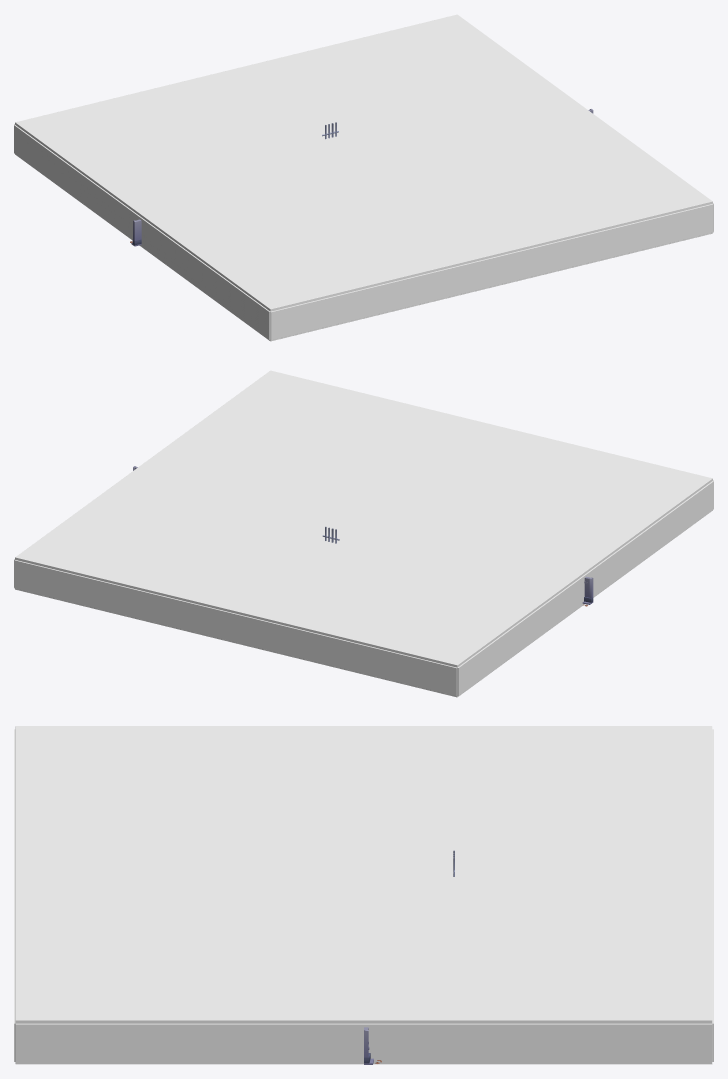
Rendered from amethyst_labyrinth.glb.
3 renders of one model, top to bottom at view 1: azimuth 30°, elevation 25°; view 2: azimuth 150°, elevation 25°; view 3: azimuth 270°, elevation 25°, orthographic. The views are drawn at different scales.
Visible parts, largest first — view 1: Solid ceiling-col, Sealed outer shell.003-col, Sealed outer shell.001-col, Foundation floor-col; view 2: Solid ceiling-col, Sealed outer shell.002-col, Sealed outer shell.001-col, Foundation floor-col; view 3: Solid ceiling-col, Sealed outer shell-col, Foundation floor-col, Sealed outer shell.002-col, Sealed outer shell.003-col.
Part boxes in pixels (x1,y1,x2,y2): Solid ceiling-col: [15, 14, 712, 311]; Sealed outer shell.003-col: [270, 204, 713, 340]; Sealed outer shell.001-col: [14, 125, 270, 339]; Foundation floor-col: [15, 154, 712, 341]; Solid ceiling-col: [15, 370, 712, 667]; Sealed outer shell.002-col: [14, 560, 457, 696]; Sealed outer shell.001-col: [457, 481, 713, 695]; Foundation floor-col: [15, 510, 712, 697]; Solid ceiling-col: [15, 726, 712, 1023]; Sealed outer shell-col: [15, 1023, 712, 1062]; Foundation floor-col: [15, 1062, 712, 1064]; Sealed outer shell.002-col: [712, 729, 713, 1061]; Sealed outer shell.003-col: [14, 729, 15, 1061].
Bounding box in the file's own units: 80 × 7.67 × 77.6.
Materials: 10 (5 with a texture image).
